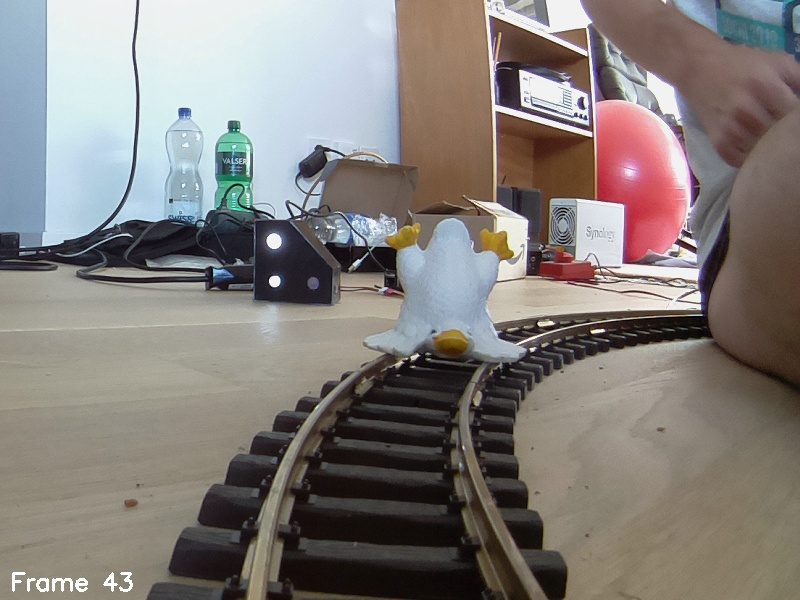Ente: (358, 218, 536, 368)
Fahrt: (253, 217, 342, 306)
